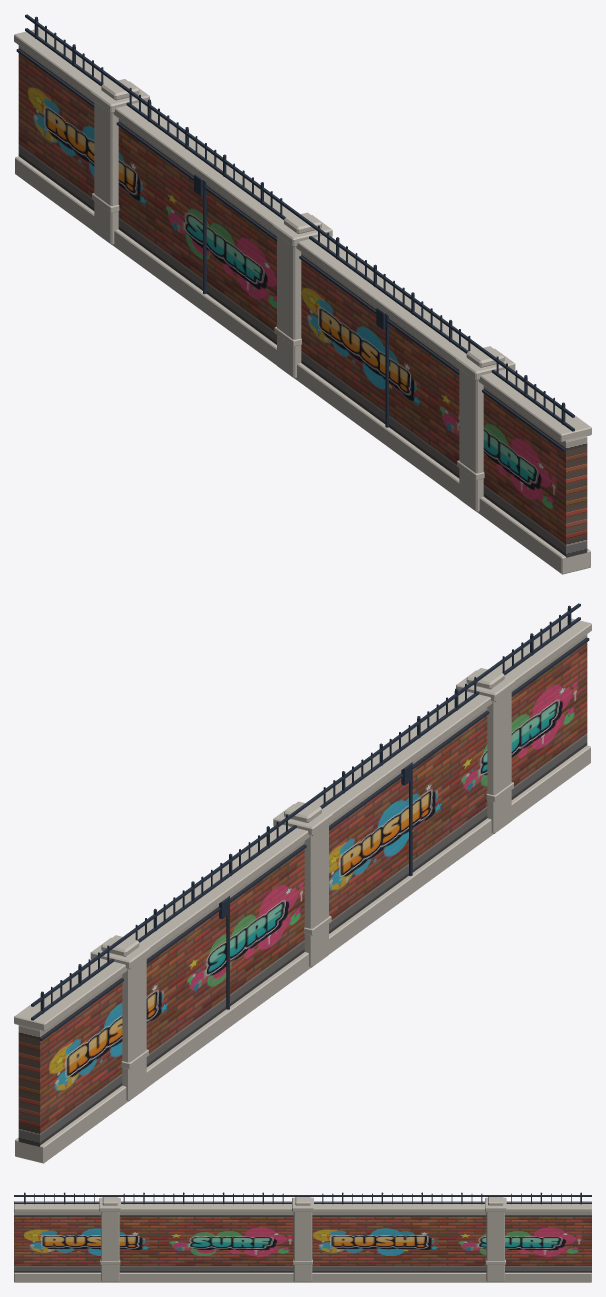
File: muro_corredor.glb
3 views of the same model, one above another, from view 1: azimuth 30°, elevation 25°; view 2: azimuth 150°, elevation 25°; view 3: azimuth 270°, elevation 25° (orthographic). The views are drawn at different scales.
Parts seen in each view (by area): view 1: Muro_Corredor; view 2: Muro_Corredor; view 3: Muro_Corredor.
Boxes of the visible parts, box(x1,y1,x2,y2) form: Muro_Corredor: box(14, 14, 591, 574); Muro_Corredor: box(14, 603, 591, 1163); Muro_Corredor: box(14, 1192, 591, 1282).
Size of the model in its own units: 1.36 by 5.23 by 32.
Materials: 3 (1 with a texture image).
